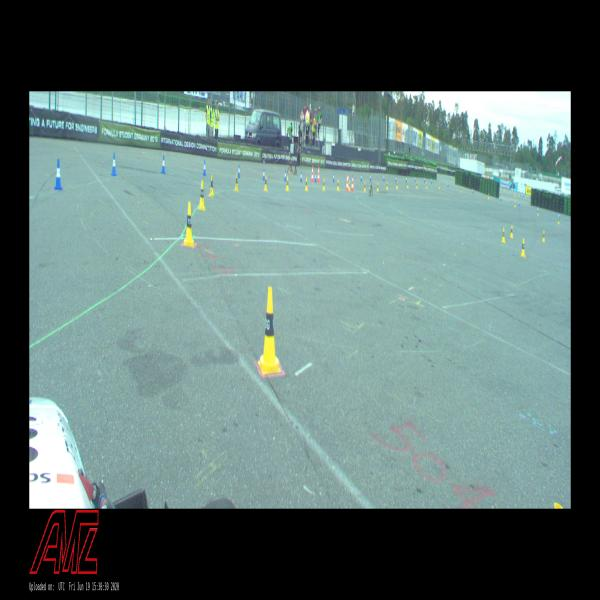blue_cone: (54, 159, 62, 189), (112, 153, 117, 176), (162, 155, 166, 173), (203, 160, 206, 176), (314, 172, 317, 182), (238, 165, 240, 177), (284, 170, 286, 182), (263, 169, 265, 180), (300, 171, 302, 182), (360, 174, 362, 181), (472, 188, 474, 193), (500, 196, 502, 201), (333, 173, 334, 182), (348, 173, 349, 182), (518, 201, 520, 205), (414, 177, 416, 181), (370, 173, 371, 180), (396, 176, 397, 182), (559, 212, 560, 218), (537, 206, 538, 212), (448, 182, 449, 187), (406, 177, 407, 182), (431, 178, 432, 183), (424, 177, 425, 182), (384, 174, 384, 180)
large_orange_cone: (346, 174, 349, 191), (311, 166, 314, 182), (317, 166, 320, 182), (351, 175, 354, 191)
yellow_cone: (258, 287, 281, 373), (184, 202, 194, 246), (199, 181, 205, 209), (209, 175, 214, 196), (521, 239, 525, 256), (235, 173, 238, 191), (286, 176, 289, 191), (264, 176, 267, 190), (502, 228, 505, 242), (305, 178, 308, 190), (510, 226, 513, 237), (322, 178, 325, 189), (543, 230, 545, 241), (337, 180, 339, 190), (348, 180, 350, 190), (364, 183, 366, 191), (386, 181, 388, 189), (396, 182, 398, 189), (416, 182, 418, 188), (488, 193, 490, 199), (537, 209, 539, 215), (460, 187, 462, 192), (514, 202, 516, 206), (377, 183, 378, 190), (407, 181, 408, 188), (558, 217, 559, 224), (426, 183, 427, 188), (439, 184, 440, 188), (500, 189, 501, 193)
